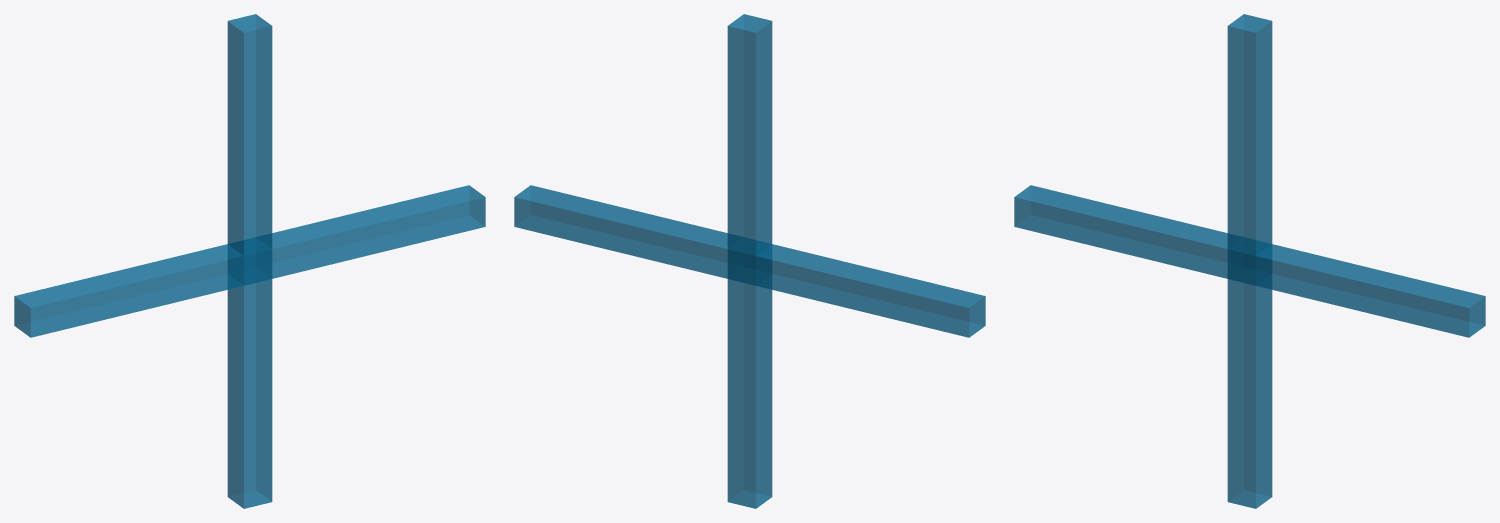
Rendered from crosshairs.fbx.
The picture shows the model from 3 angles, left to right: view 1: azimuth 30°, elevation 25°; view 2: azimuth 150°, elevation 25°; view 3: azimuth 330°, elevation 25°; orthographic projection.
Parts seen in each view (by area): view 1: pCube1, pCube2; view 2: pCube1, pCube2; view 3: pCube1, pCube2.
Part boxes in pixels (left/top/right/bottom): pCube1: left=227, top=14, right=272, bottom=508; pCube2: left=14, top=185, right=485, bottom=337; pCube1: left=727, top=14, right=772, bottom=508; pCube2: left=514, top=185, right=985, bottom=337; pCube1: left=1227, top=14, right=1272, bottom=508; pCube2: left=1014, top=185, right=1485, bottom=337.
Size of the model in its own units: 2 by 2 by 0.125.
